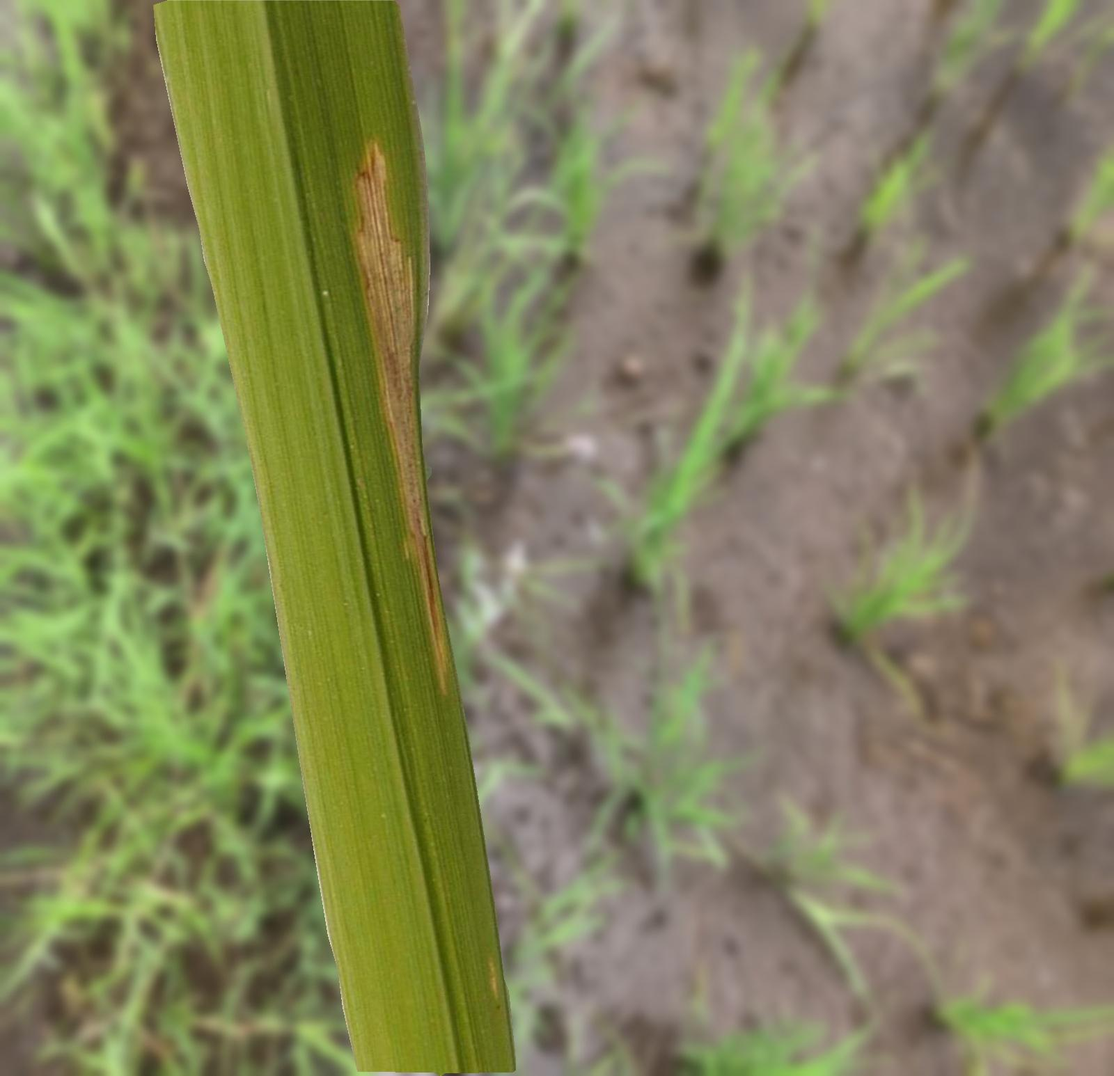BLS: (356, 141, 447, 688)
LEAF: (153, 0, 515, 1075)
